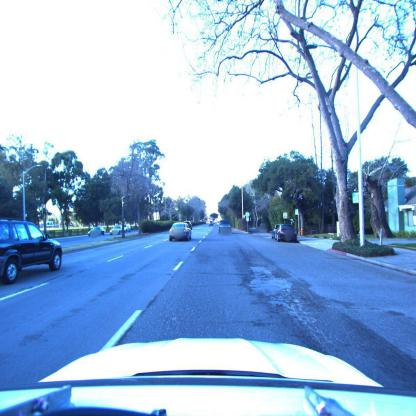car: (0, 218, 64, 284), (168, 222, 192, 241), (274, 226, 296, 244), (109, 224, 131, 235), (218, 220, 233, 236), (88, 225, 107, 236), (208, 219, 214, 227)
sign: (352, 192, 360, 204), (245, 212, 251, 221), (294, 208, 300, 216), (282, 212, 288, 219)
